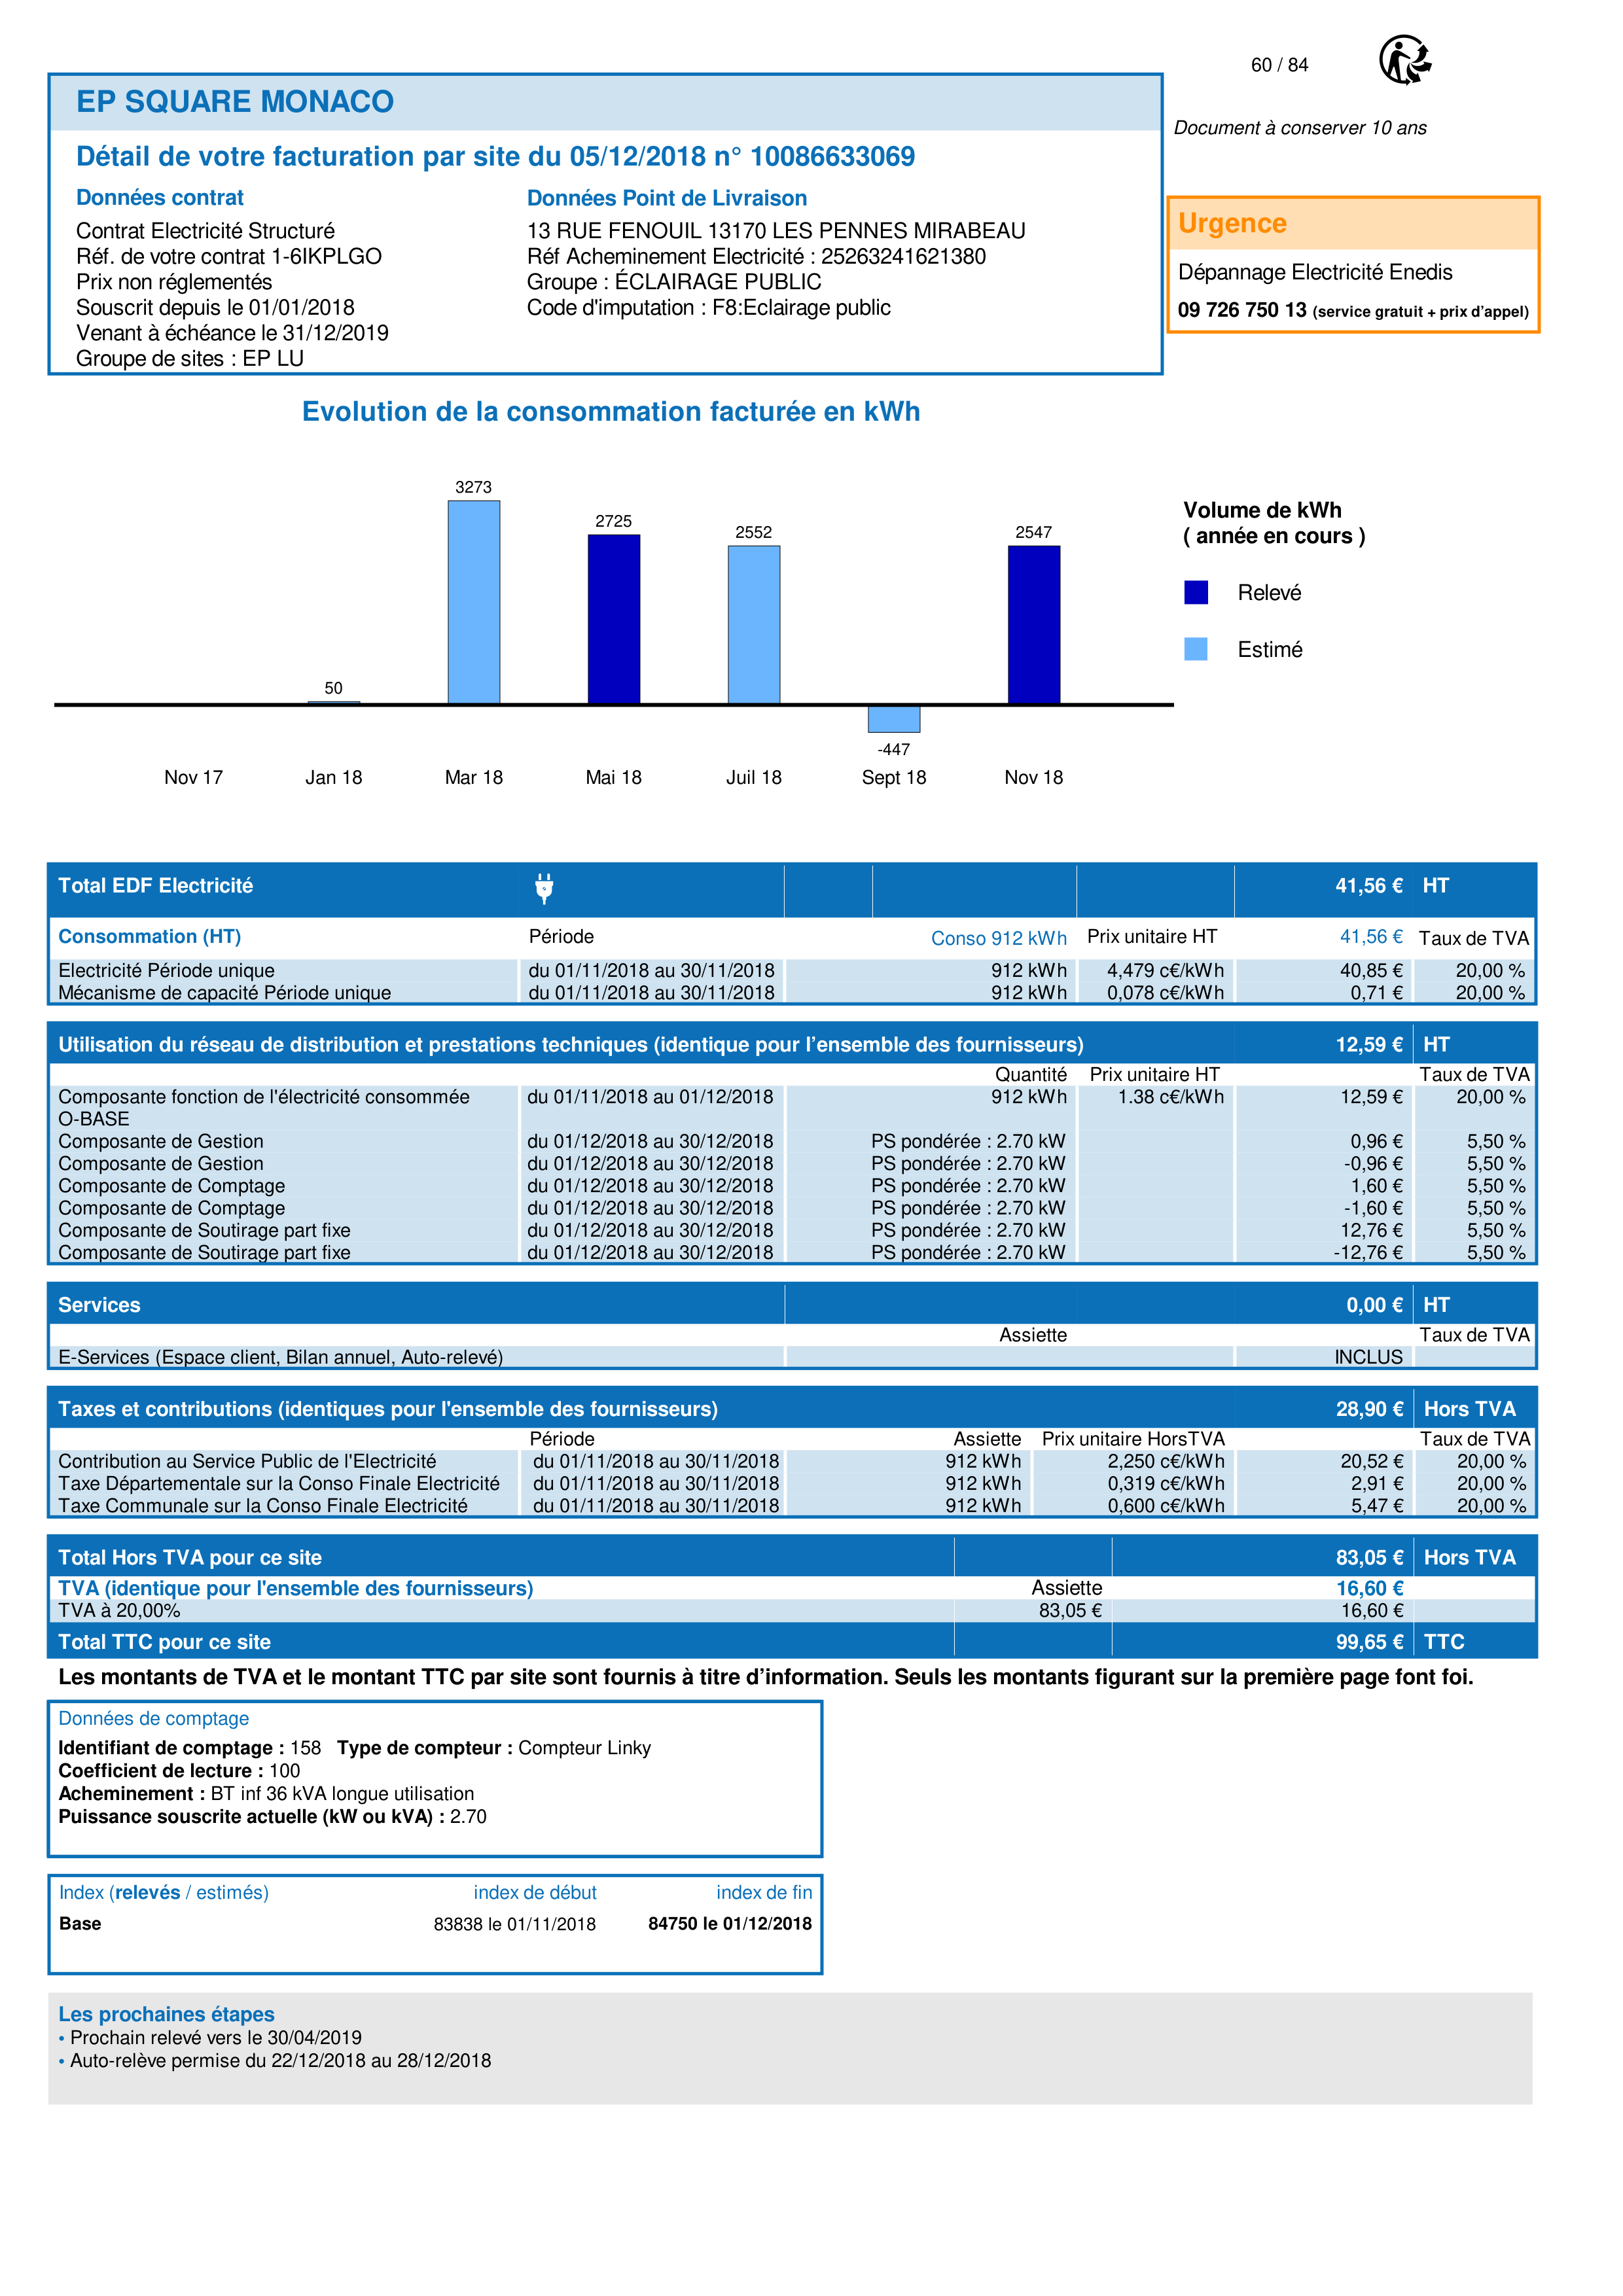area: (46, 1876, 822, 1973)
type_indicator: (47, 1875, 283, 1908)
